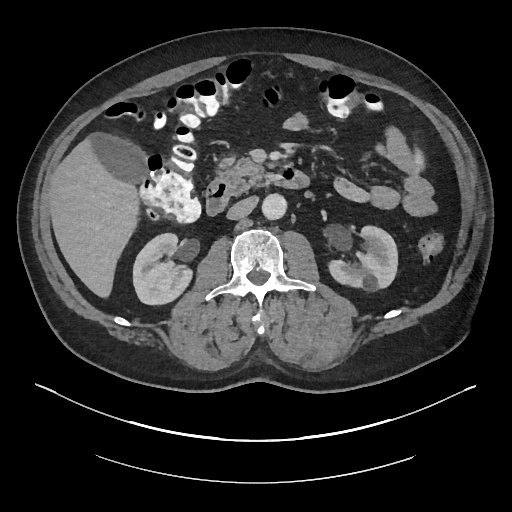Lesion: (359, 273, 382, 292)
